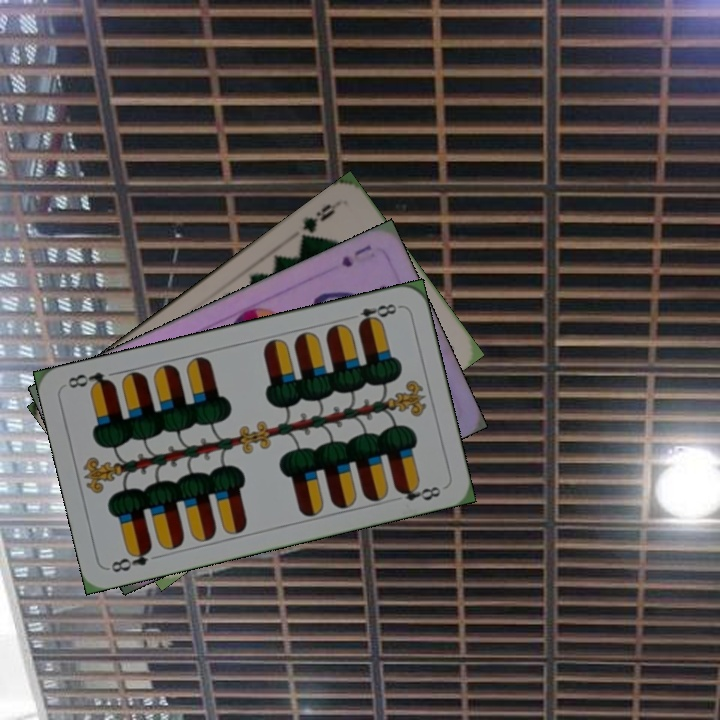E8: (107, 542, 155, 576), (354, 299, 402, 329)
G9: (296, 197, 343, 246)
SU: (336, 240, 375, 270)
